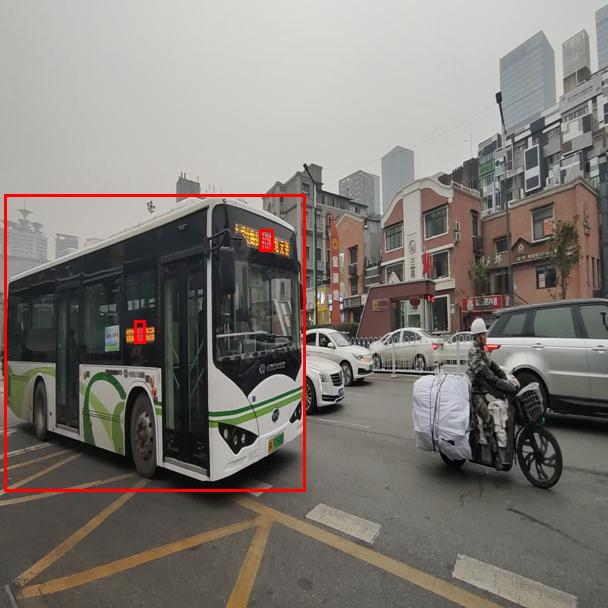bus: (4, 194, 305, 491)
screen: (259, 229, 273, 251), (134, 320, 145, 343)
